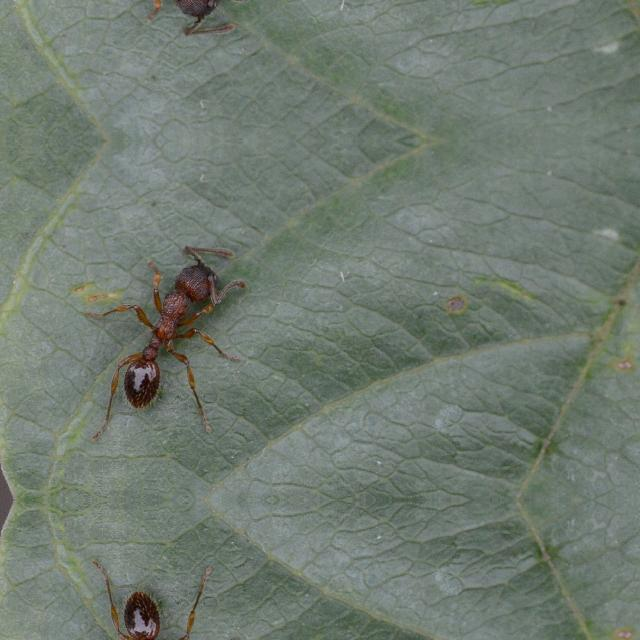Myrmica: (80, 240, 248, 418), (79, 580, 248, 640), (79, 0, 248, 40)
